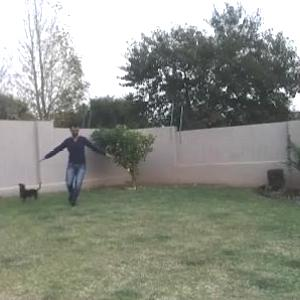land: (48, 116, 126, 207)
